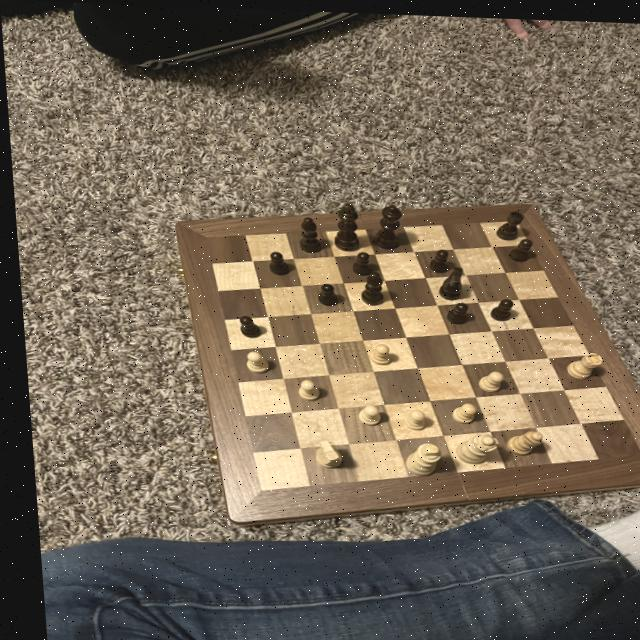bishop: (289, 213, 321, 253), (352, 266, 384, 305)
black-bishop: (328, 198, 360, 251)
black-king: (429, 260, 466, 299)
black-knight: (308, 278, 340, 310), (501, 232, 532, 260), (485, 293, 513, 321), (231, 312, 260, 337), (263, 248, 289, 275), (440, 298, 469, 322), (423, 245, 449, 271), (347, 247, 371, 275)
black-pawn: (364, 199, 403, 251)
black-queen: (489, 204, 523, 240)
black-rook: (500, 423, 542, 453)
white-bishop: (393, 438, 442, 478)
white-king: (307, 436, 341, 469)
white-knight: (441, 397, 476, 424), (236, 347, 269, 374), (290, 374, 320, 403), (362, 338, 394, 365), (471, 364, 503, 391), (349, 400, 380, 426), (395, 405, 425, 430)
white-pawn: (445, 427, 494, 466)
white-queen: (558, 345, 602, 379)
